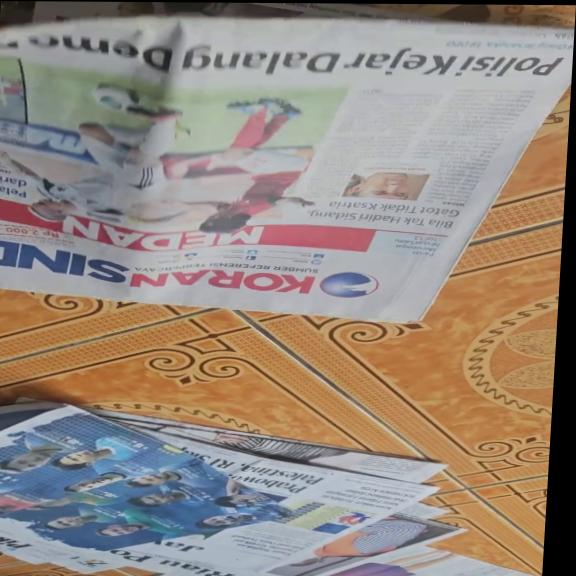Kertas: (0, 25, 441, 294), (0, 448, 312, 559)
